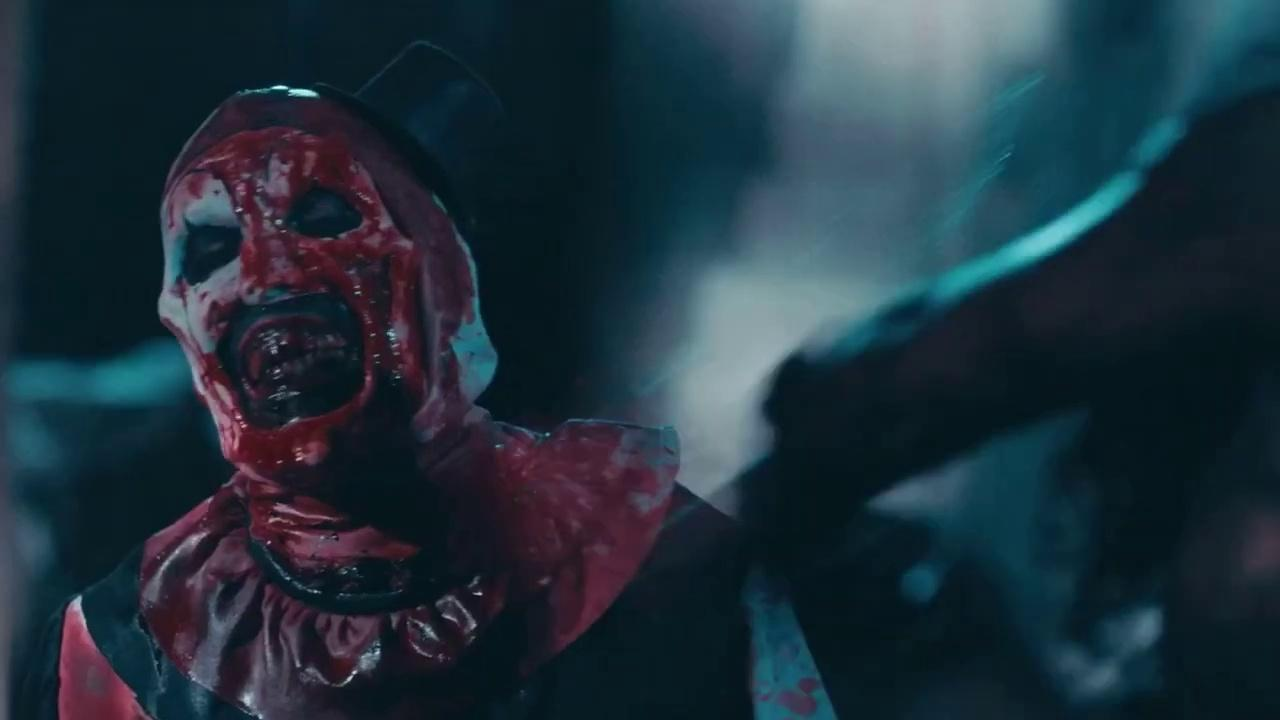Fire: (137, 88, 678, 718), (744, 568, 836, 720), (57, 597, 151, 720)
